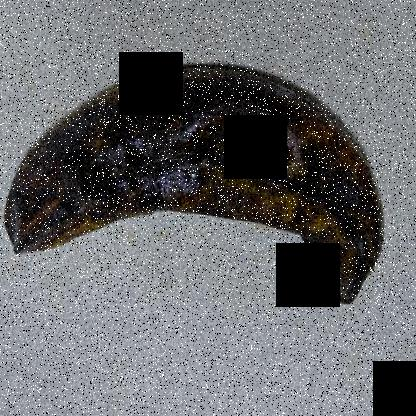rotten: (1, 43, 391, 327)
